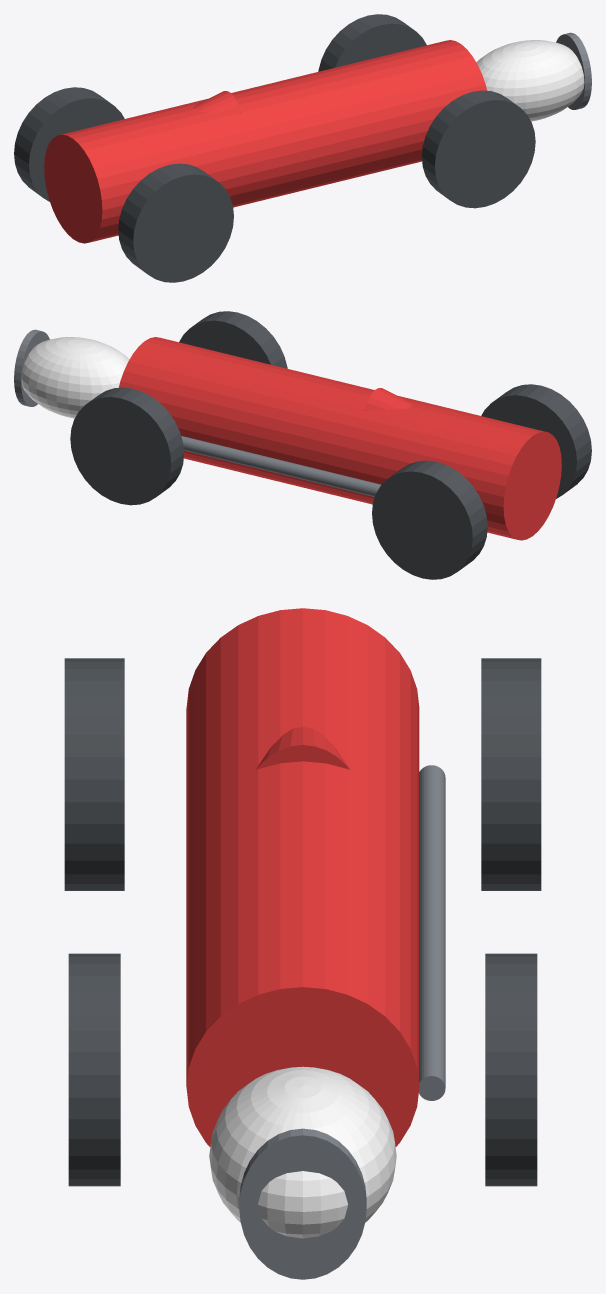
The model's file is 1950s_front_engine.glb.
The picture shows the model from 3 angles, top to bottom: view 1: azimuth 30°, elevation 25°; view 2: azimuth 150°, elevation 25°; view 3: azimuth 270°, elevation 25°; orthographic projection. The views are drawn at different scales.
Parts seen in each view (by area): view 1: chassis_cigar_body, wheel_rr_tire, wheel_fr_tire, chassis_nose_cap, wheel_rl_tire, wheel_fl_tire, radiator_grille_open, headrest_fairing; view 2: chassis_cigar_body, wheel_rl_tire, wheel_fl_tire, chassis_nose_cap, wheel_rr_tire, wheel_fr_tire, side_exhaust_manifold, radiator_grille_open, headrest_fairing; view 3: chassis_cigar_body, chassis_nose_cap, wheel_rl_tire, wheel_rr_tire, wheel_fl_tire, wheel_fr_tire, radiator_grille_open, side_exhaust_manifold, headrest_fairing.
Boxes of the visible parts, x1=… form: chassis_cigar_body: x1=44, y1=40, x2=487, y2=243; wheel_rr_tire: x1=118, y1=163, x2=233, y2=282; wheel_fr_tire: x1=421, y1=90, x2=535, y2=208; chassis_nose_cap: x1=476, y1=40, x2=584, y2=121; wheel_rl_tire: x1=14, y1=87, x2=124, y2=201; wheel_fl_tire: x1=318, y1=14, x2=426, y2=71; radiator_grille_open: x1=556, y1=32, x2=591, y2=109; headrest_fairing: x1=193, y1=91, x2=241, y2=113; chassis_cigar_body: x1=119, y1=337, x2=561, y2=540; wheel_rl_tire: x1=372, y1=460, x2=487, y2=579; wheel_fl_tire: x1=70, y1=387, x2=184, y2=505; chassis_nose_cap: x1=21, y1=337, x2=129, y2=418; wheel_rr_tire: x1=481, y1=384, x2=591, y2=498; wheel_fr_tire: x1=179, y1=311, x2=287, y2=368; side_exhaust_manifold: x1=181, y1=436, x2=381, y2=496; radiator_grille_open: x1=14, y1=329, x2=49, y2=406; headrest_fairing: x1=364, y1=388, x2=412, y2=410; chassis_cigar_body: x1=186, y1=608, x2=419, y2=1146; chassis_nose_cap: x1=209, y1=1066, x2=396, y2=1238; wheel_rl_tire: x1=481, y1=658, x2=541, y2=890; wheel_rr_tire: x1=64, y1=658, x2=124, y2=890; wheel_fl_tire: x1=485, y1=953, x2=537, y2=1186; wheel_fr_tire: x1=68, y1=953, x2=120, y2=1186; radiator_grille_open: x1=239, y1=1128, x2=366, y2=1279; side_exhaust_manifold: x1=419, y1=765, x2=445, y2=1100; headrest_fairing: x1=256, y1=727, x2=349, y2=769.
Size of the model in its own units: 3.84 by 0.86 by 1.56.
